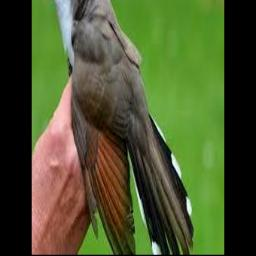Cuckoo: (35, 0, 194, 254)
